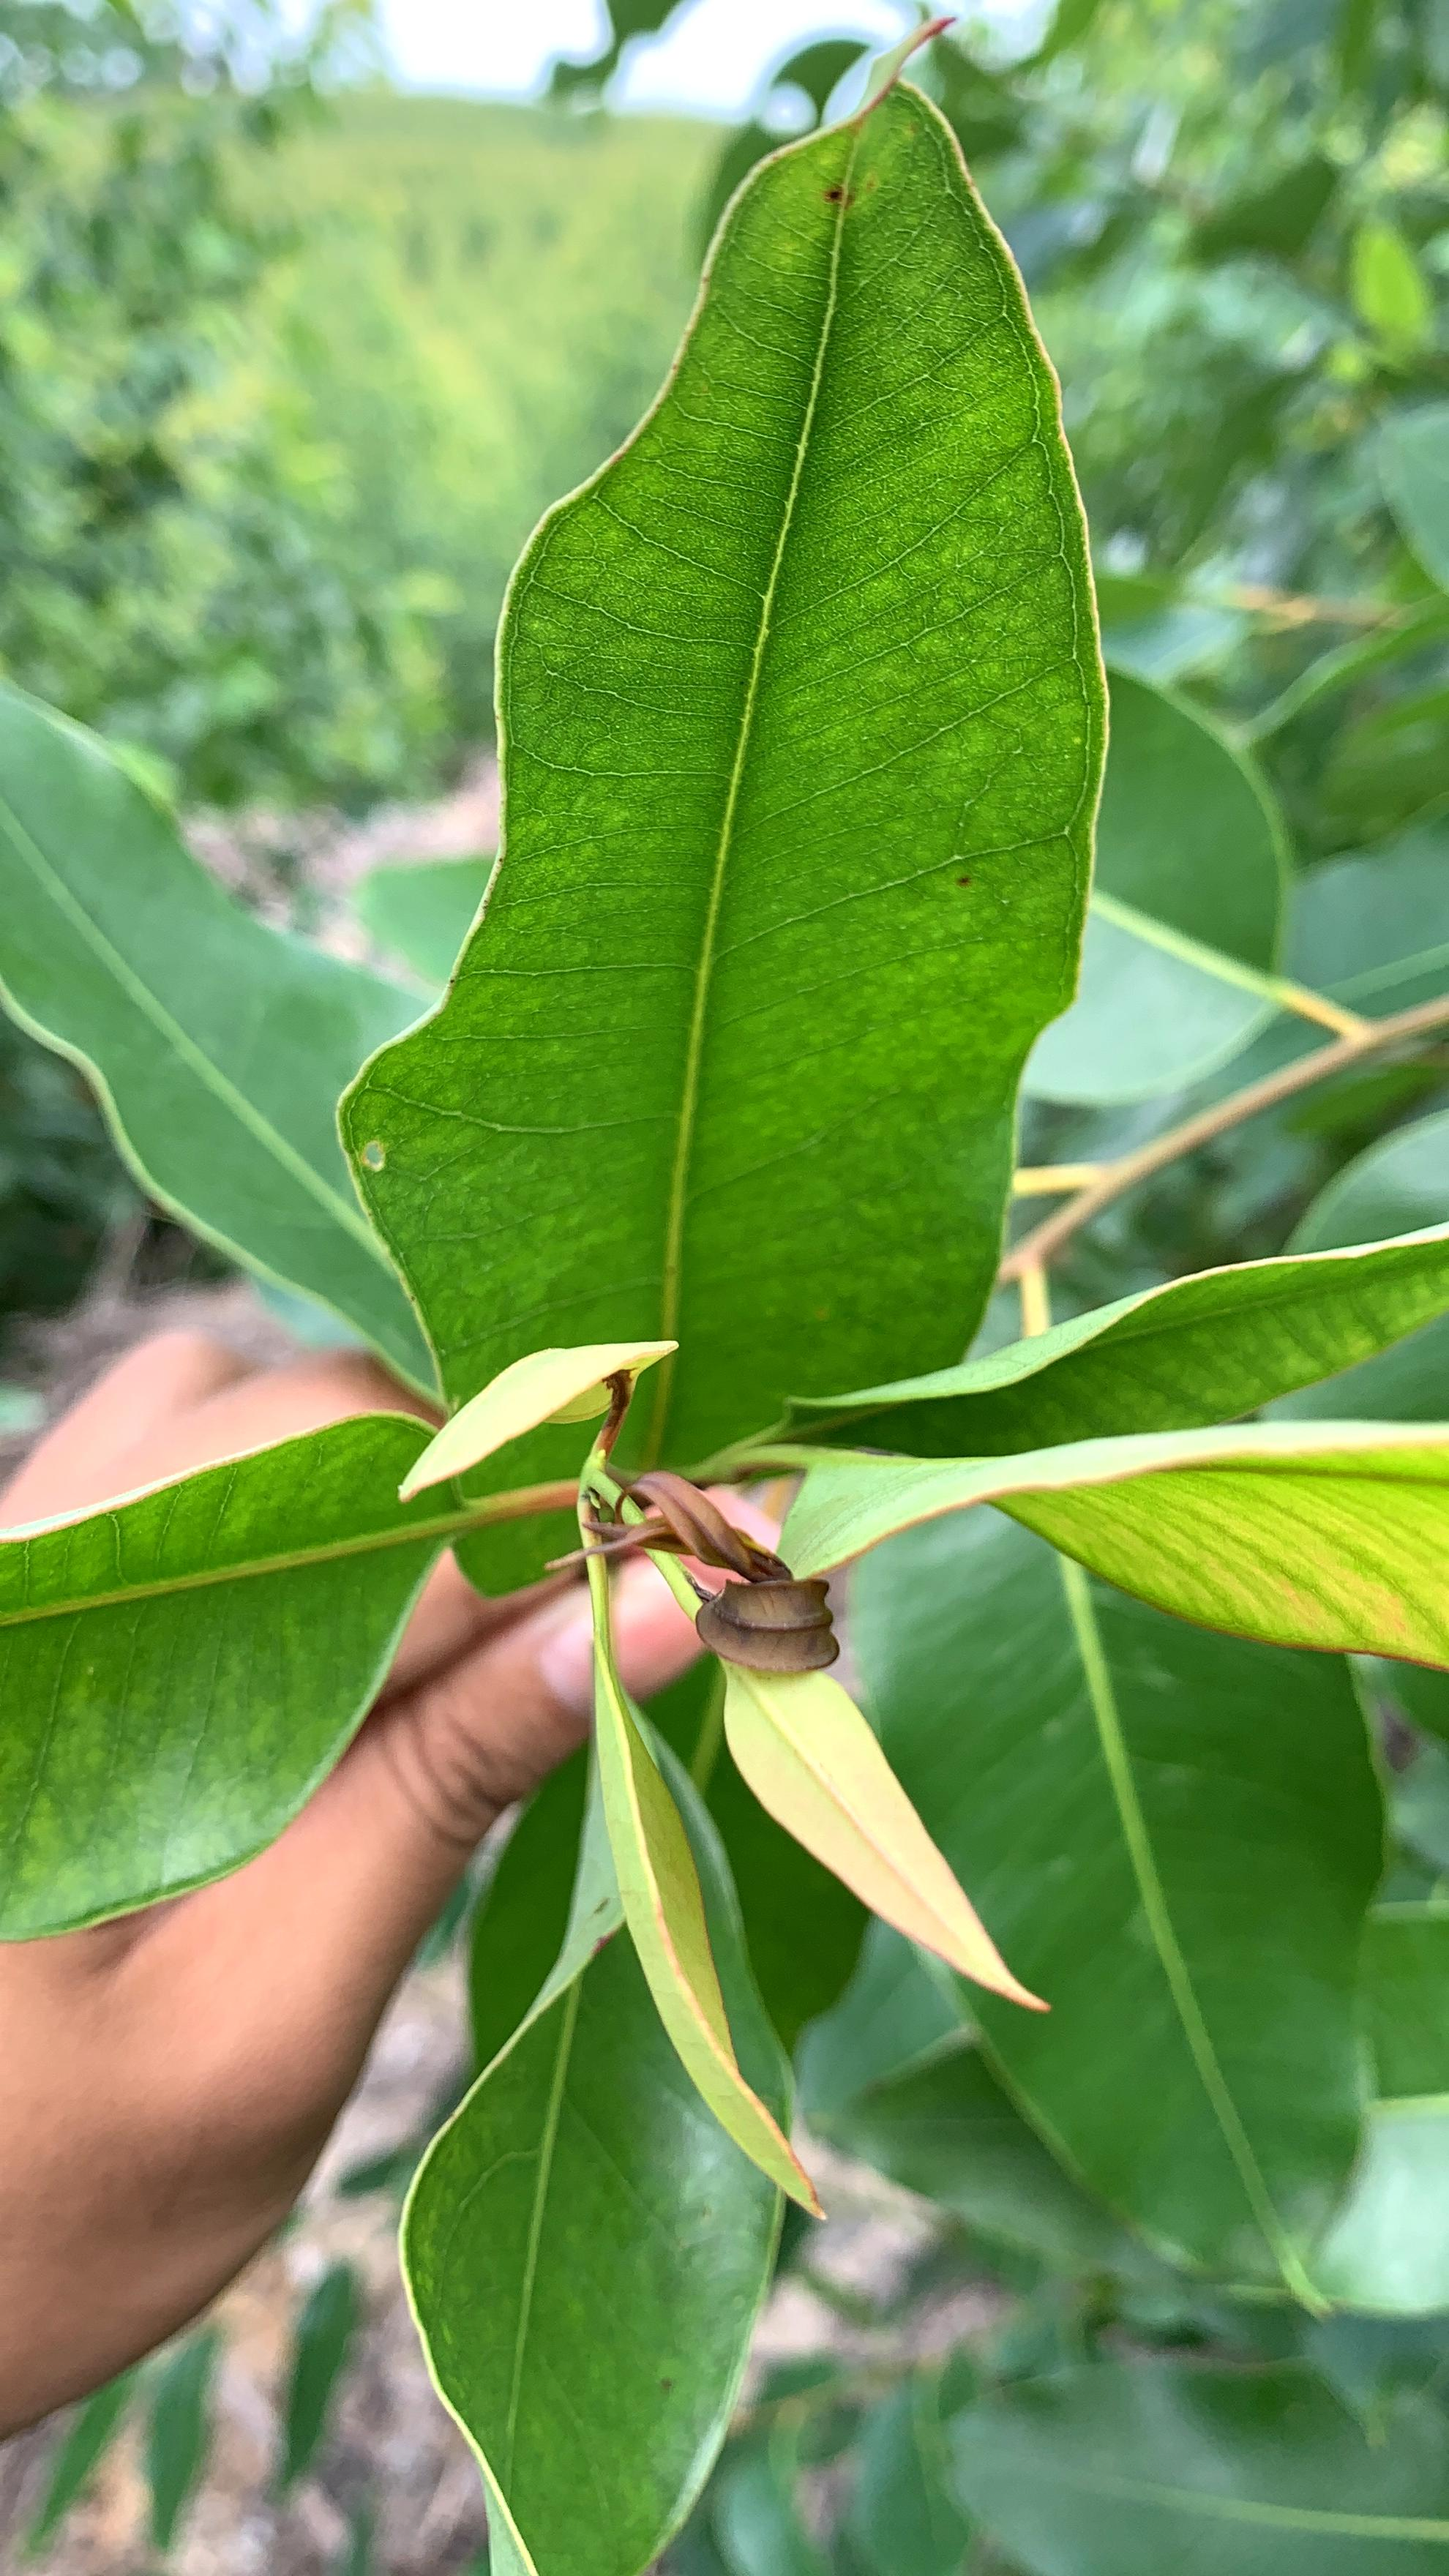Helopeltis-Withered Sprout: (535, 1429, 828, 1705)
